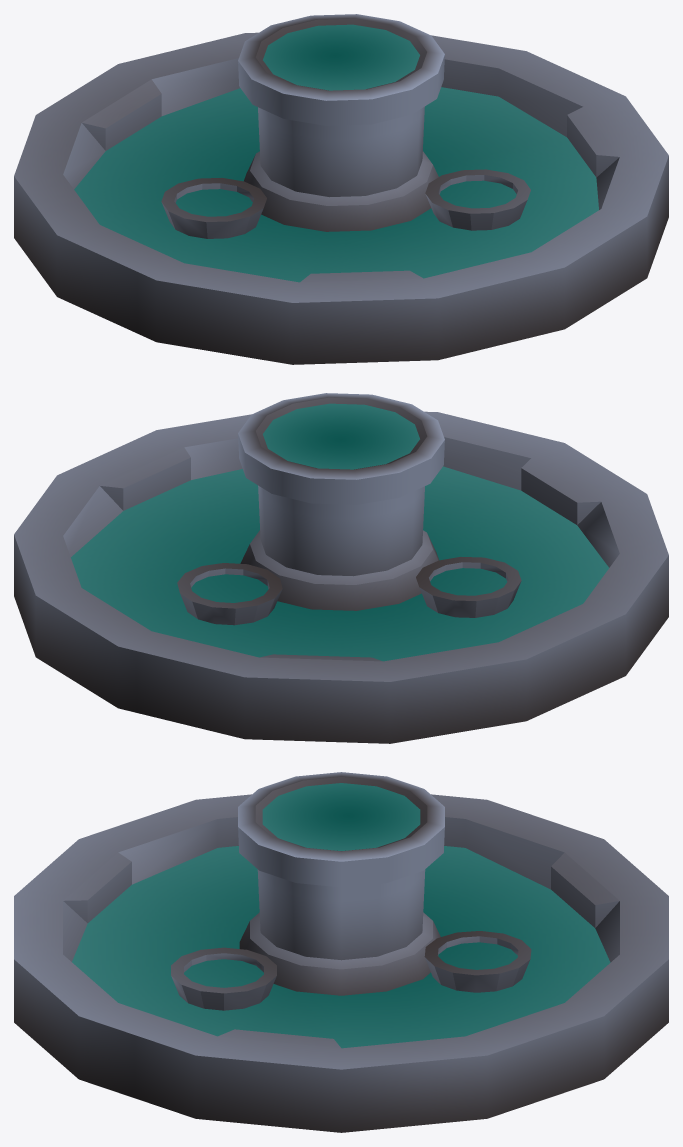
The model's file is waterfountain.fbx.
The picture shows the model from 3 angles, top to bottom: view 1: azimuth 30°, elevation 25°; view 2: azimuth 150°, elevation 25°; view 3: azimuth 270°, elevation 25°; orthographic projection. The views are drawn at different scales.
Visible parts, largest first — view 1: pCylinder2; view 2: pCylinder2; view 3: pCylinder2.
Boxes of the visible parts, x1=… form: pCylinder2: x1=14, y1=14, x2=668, y2=364; pCylinder2: x1=14, y1=393, x2=668, y2=743; pCylinder2: x1=14, y1=772, x2=668, y2=1132.
Bounding box in the file's own units: 93.39 × 27.13 × 91.04.
